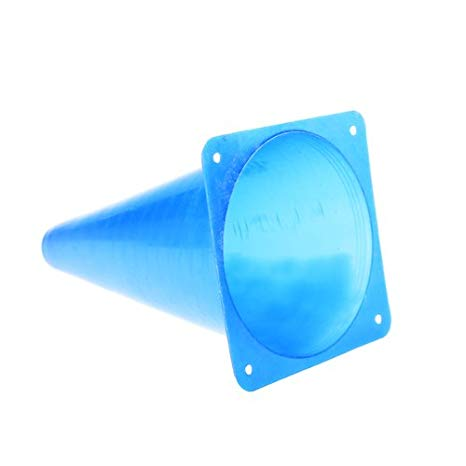cone: (39, 110, 398, 396)
